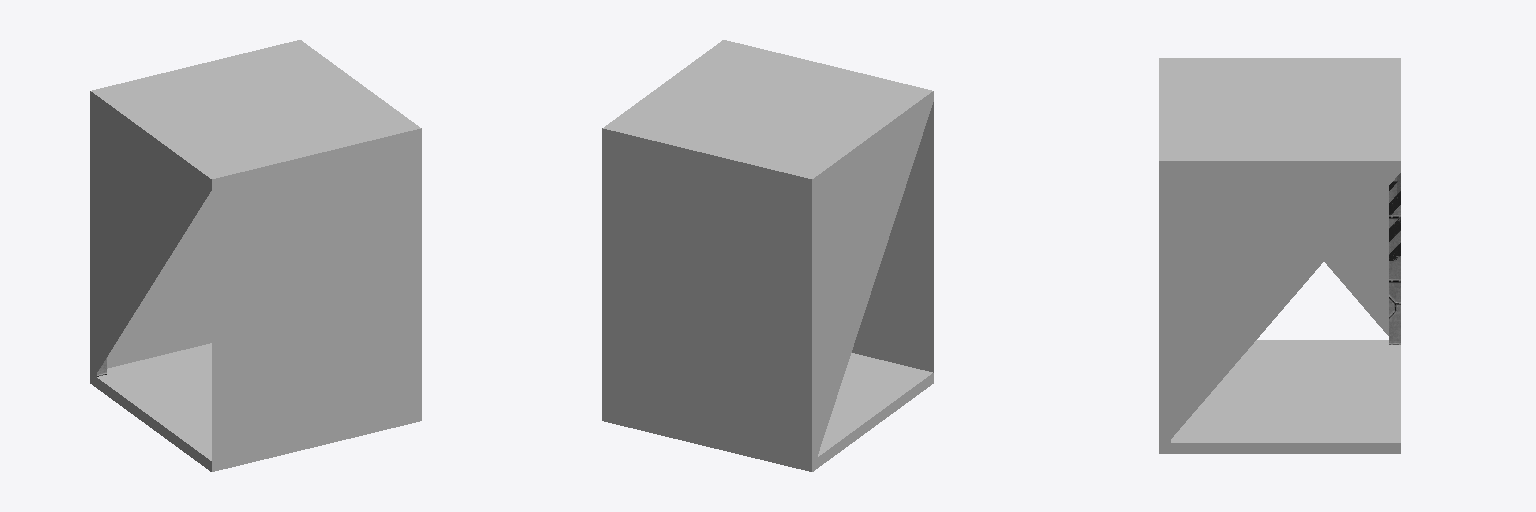
The picture shows the model from 3 angles: view 1: azimuth 30°, elevation 25°; view 2: azimuth 150°, elevation 25°; view 3: azimuth 270°, elevation 25°; orthographic projection.
Visible parts, largest first — view 1: Body.001; view 2: Body.001; view 3: Body.001.
Part boxes in pixels (x1,y1,x2,y2): Body.001: (90, 40, 421, 471); Body.001: (602, 40, 933, 471); Body.001: (1159, 58, 1400, 453).
Size of the model in its own units: 1.5 by 2 by 1.5.
3 materials, 2 textured.